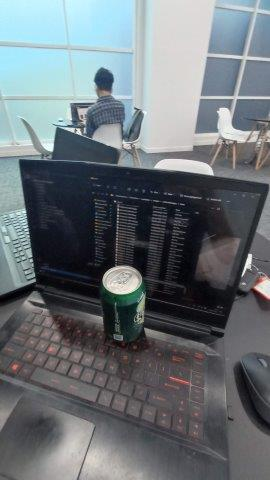kaleng: (99, 265, 145, 342)
